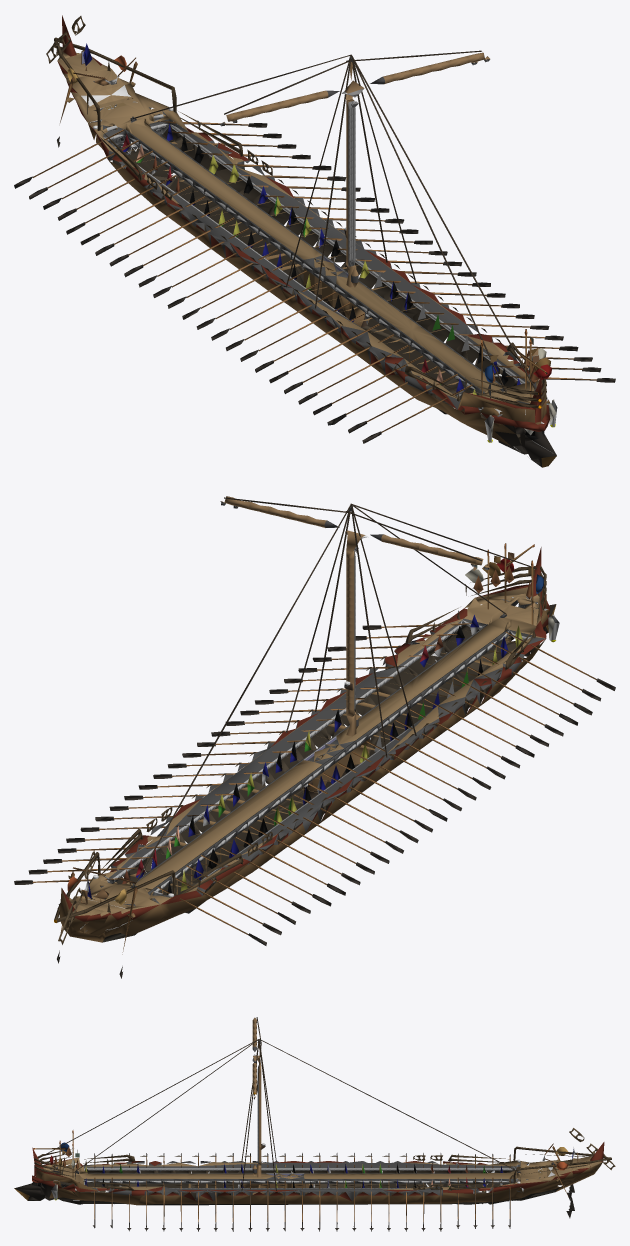
Rendered from pentecontera_greca.gltf.
3 views of the same model, one above another, from view 1: azimuth 30°, elevation 25°; view 2: azimuth 150°, elevation 25°; view 3: azimuth 270°, elevation 25° (orthographic). The views are drawn at different scales.
Visible parts, largest first — view 1: pentecontera_greca; view 2: pentecontera_greca; view 3: pentecontera_greca.
Part boxes in pixels (x1,y1,x2,y2): pentecontera_greca: (14,15,615,467); pentecontera_greca: (14,496,615,978); pentecontera_greca: (14,1017,615,1231).
Size of the model in its own units: 10.73 by 10.9 by 34.78.
